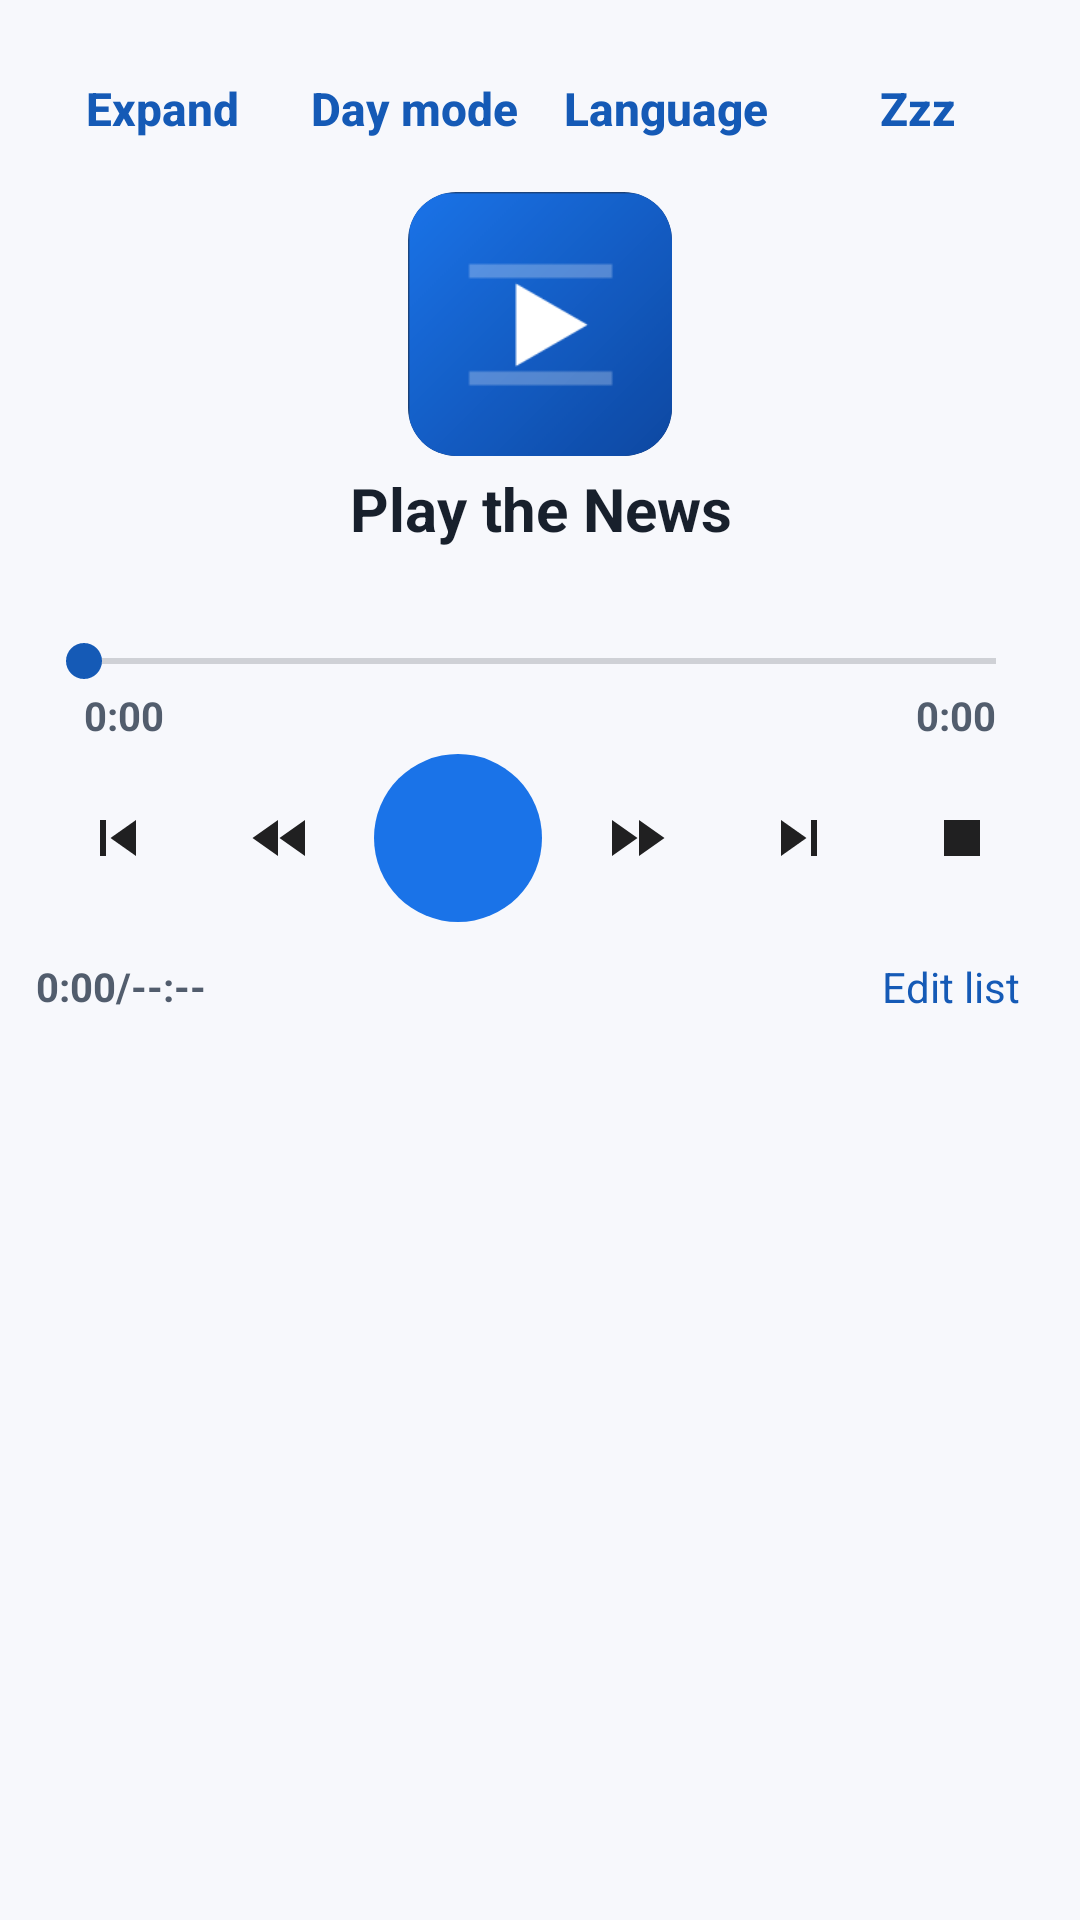

Named icons in this screenshot (1080px×1920px) and their centers, [x,y]:
Back 15 seconds: [279,838]
Forward 30 seconds: [638,838]
Next: [799,838]
Previous: [118,838]
